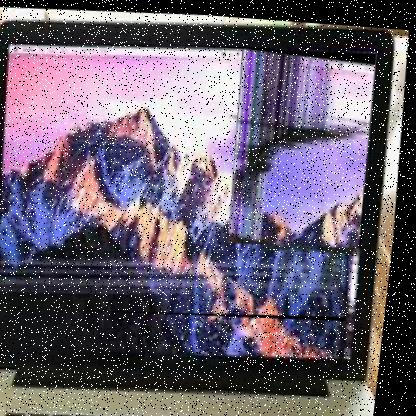lines: (0, 228, 359, 328), (226, 40, 384, 248)
